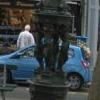Statue: (25, 2, 76, 92)
